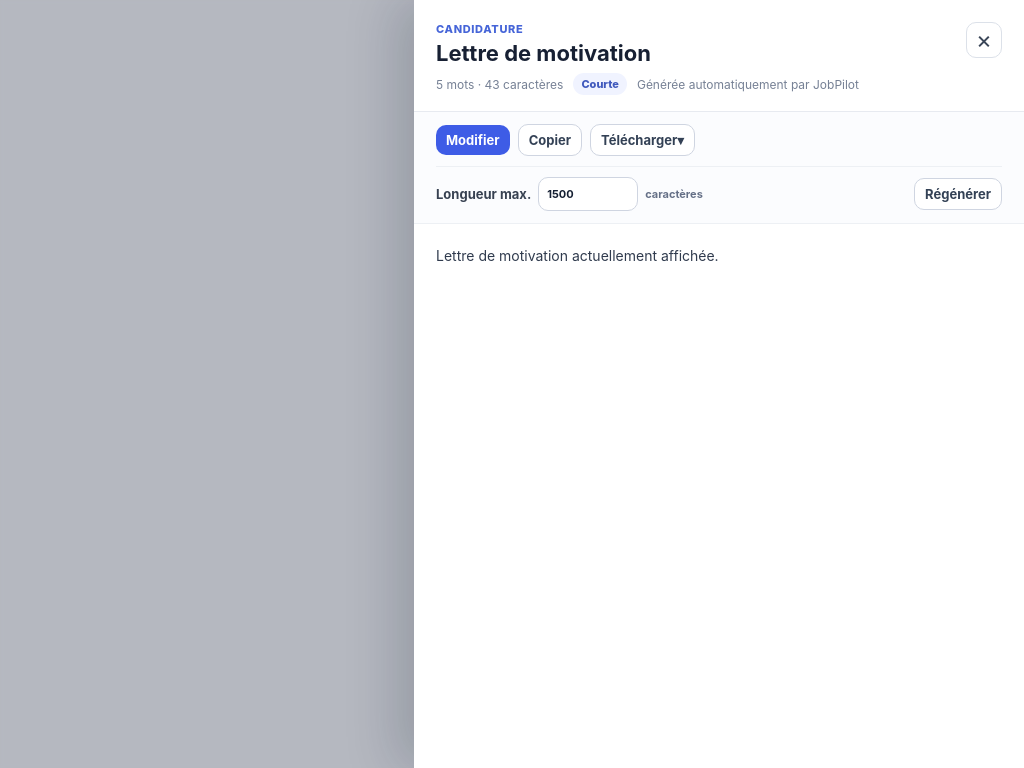
Test: CoverLetterDrawer regeneration › regenerates the cover letter with the requested maximum length
The image size is (1024, 768).
Replace the text in the number field named "Longueur maximale de la lettre" with "900" at (588, 194), box [538, 177, 638, 211]
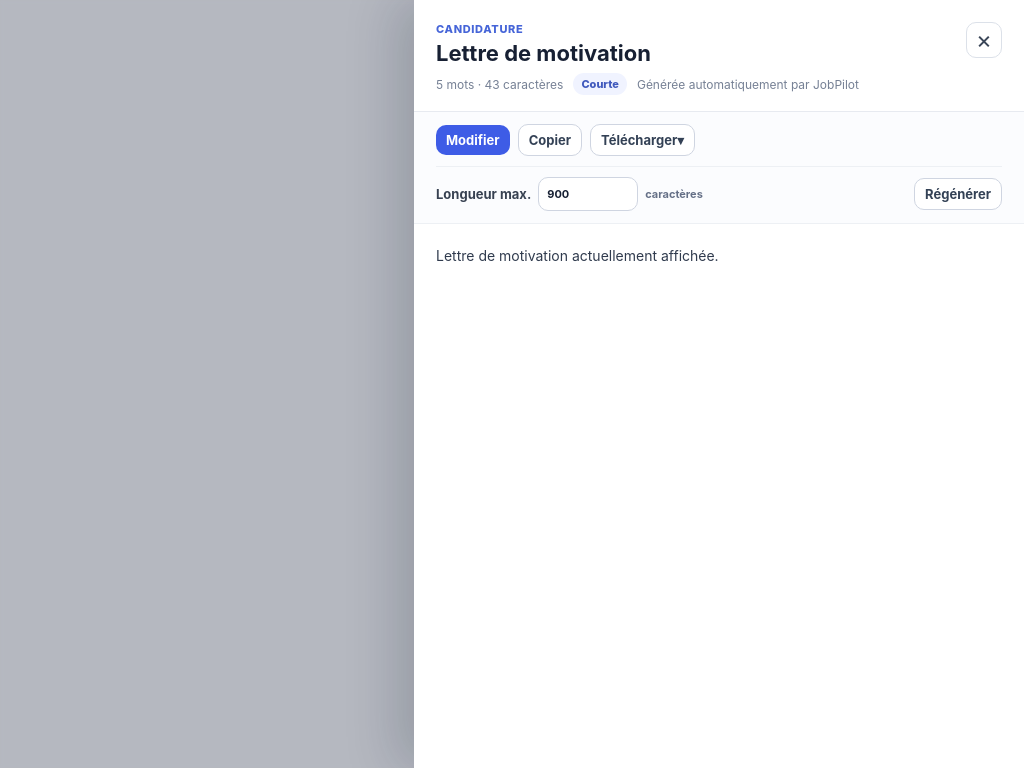
Click the button "Régénérer" at (958, 194), box [914, 178, 1002, 210]
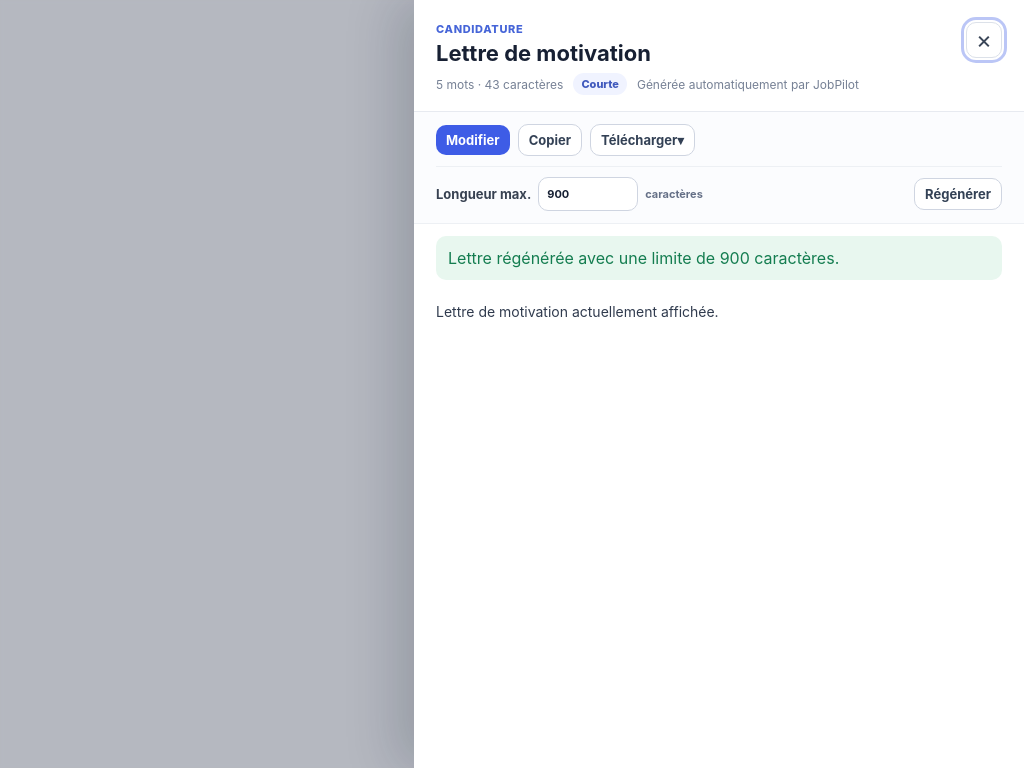
Expected: the message shows "limite de 900 caractères", [448, 248, 839, 268]
